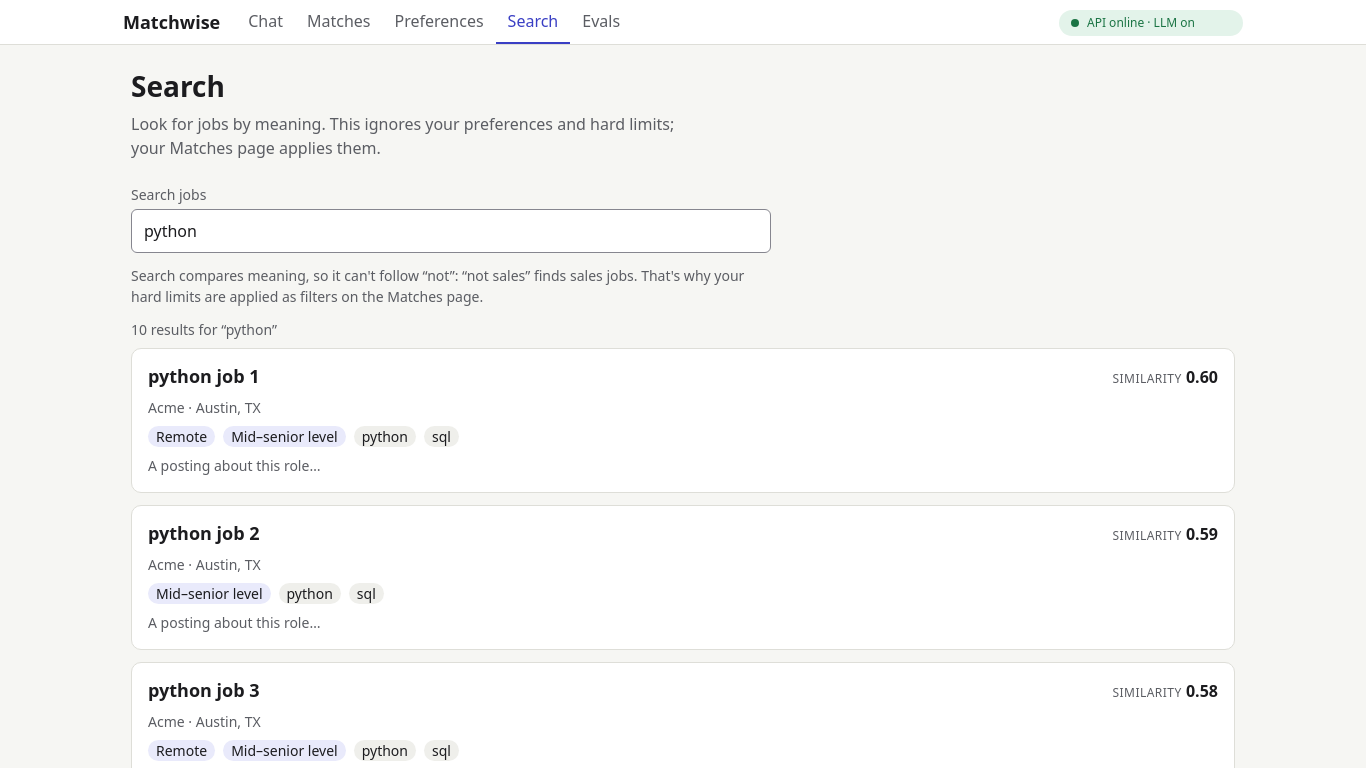
Test: searching › opens a result in the details drawer, and Back closes it with the search intact
Later steps or results of the test are not shown.
Expected: the text "10 results for “python”" is shown, [131, 320, 277, 339]
Step 1. Click the link "python job 1" → (204, 376), box [148, 364, 260, 388]
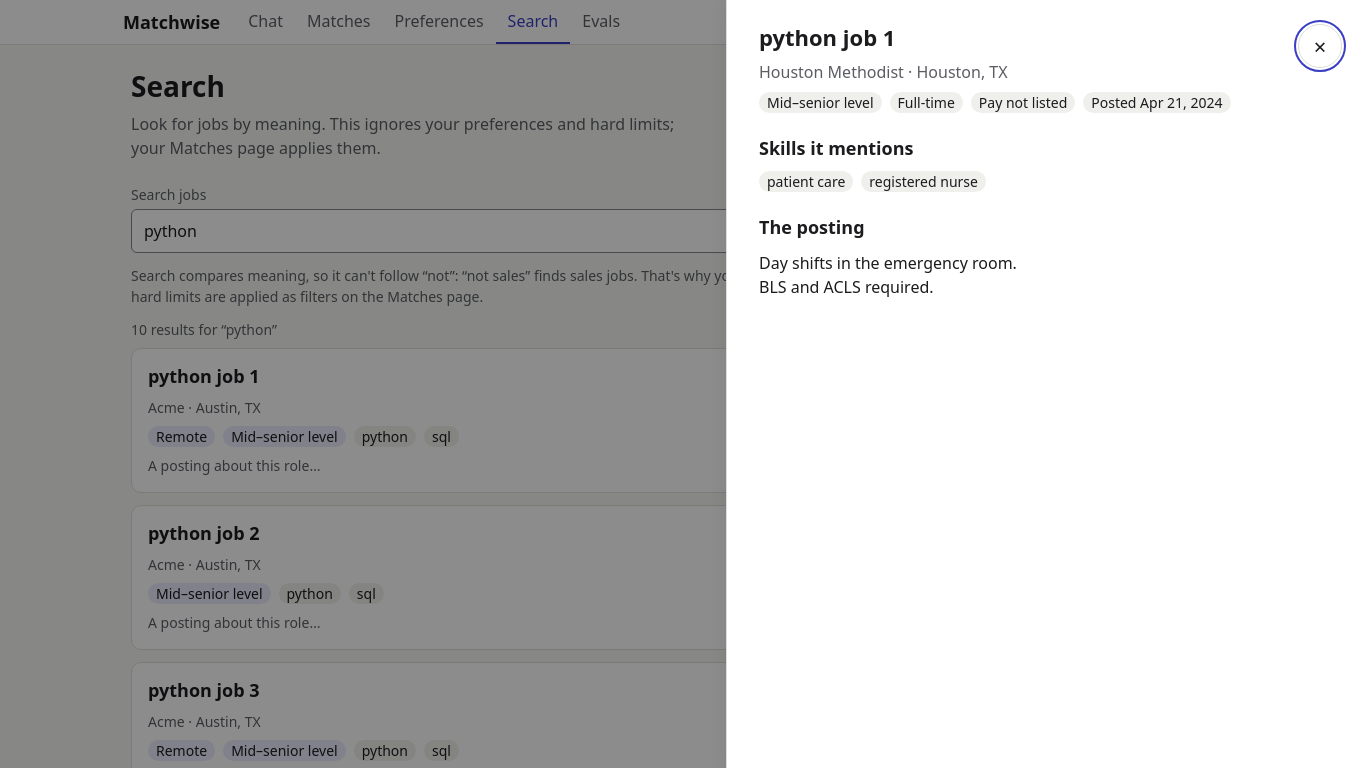
Expected: the dialog "python job 1" is shown, [726, 0, 1365, 767]
